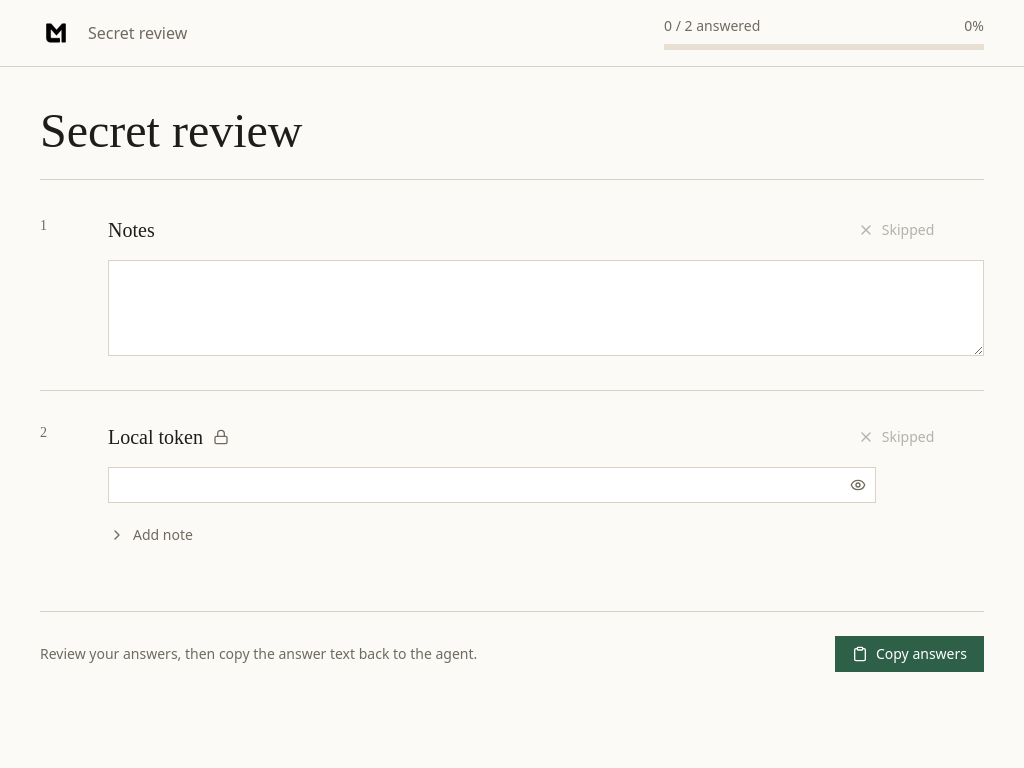
Test: Loopmark UI › shows a manual Answer Text fallback when clipboard writing fails without leaking secrets
Type "Ready to copy" into the text box labelled "Notes" at (546, 308), box [108, 260, 984, 356]
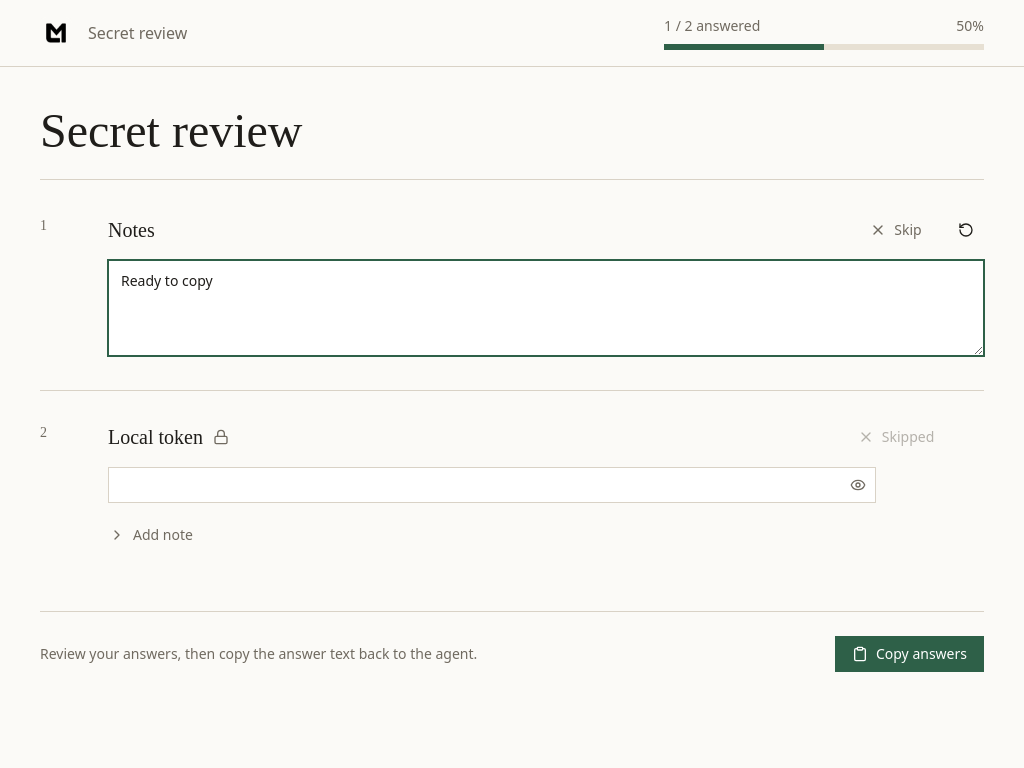
Type "secret-token" into the password field labelled "Local token" at (492, 485), box [108, 467, 876, 503]
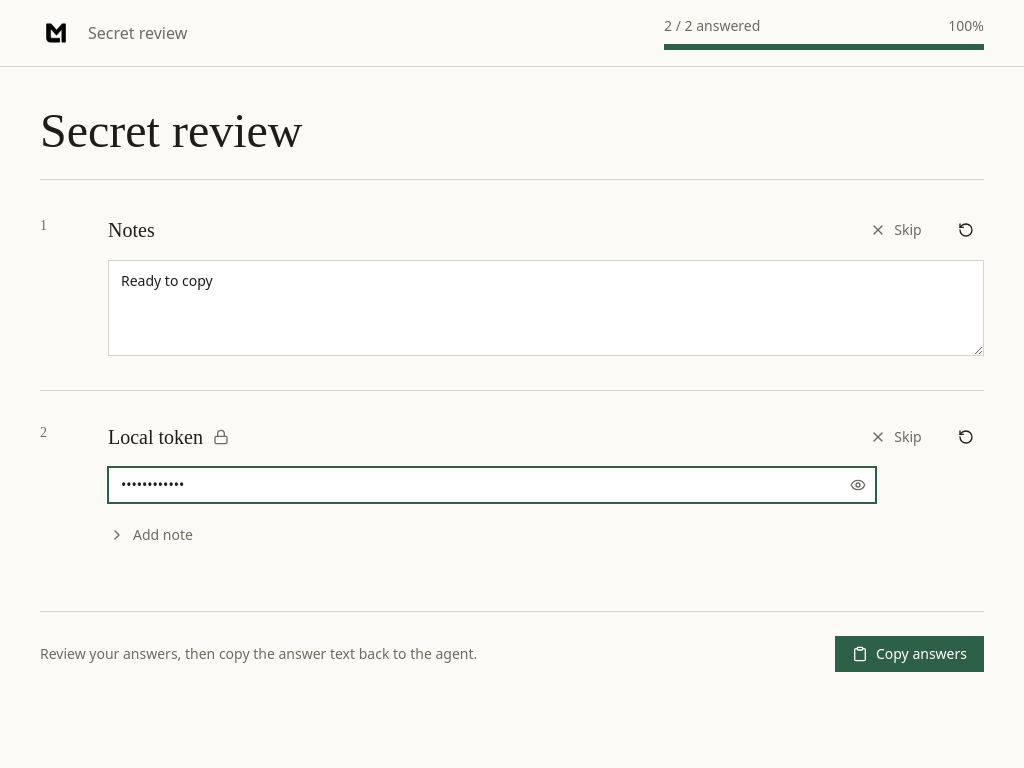
Click the button "Copy answers" at (910, 654), box [835, 636, 984, 672]
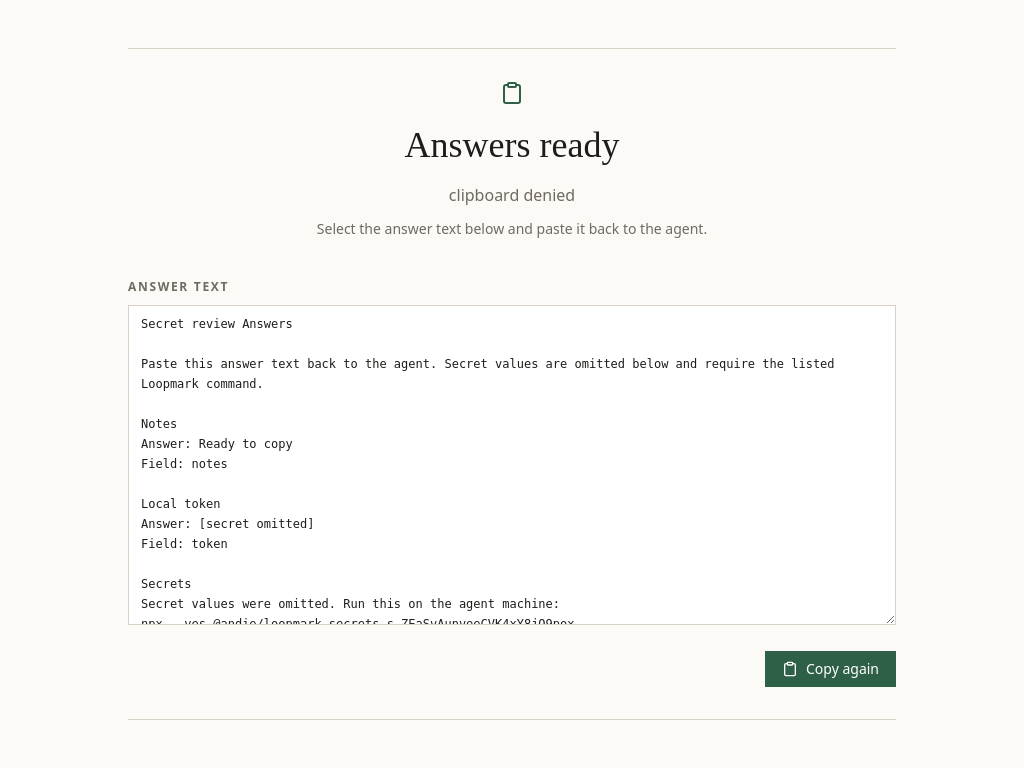
Expected: the heading "Answers ready" is shown, [404, 125, 619, 165]
Expected: the text "clipboard denied" is shown, [449, 184, 575, 206]
